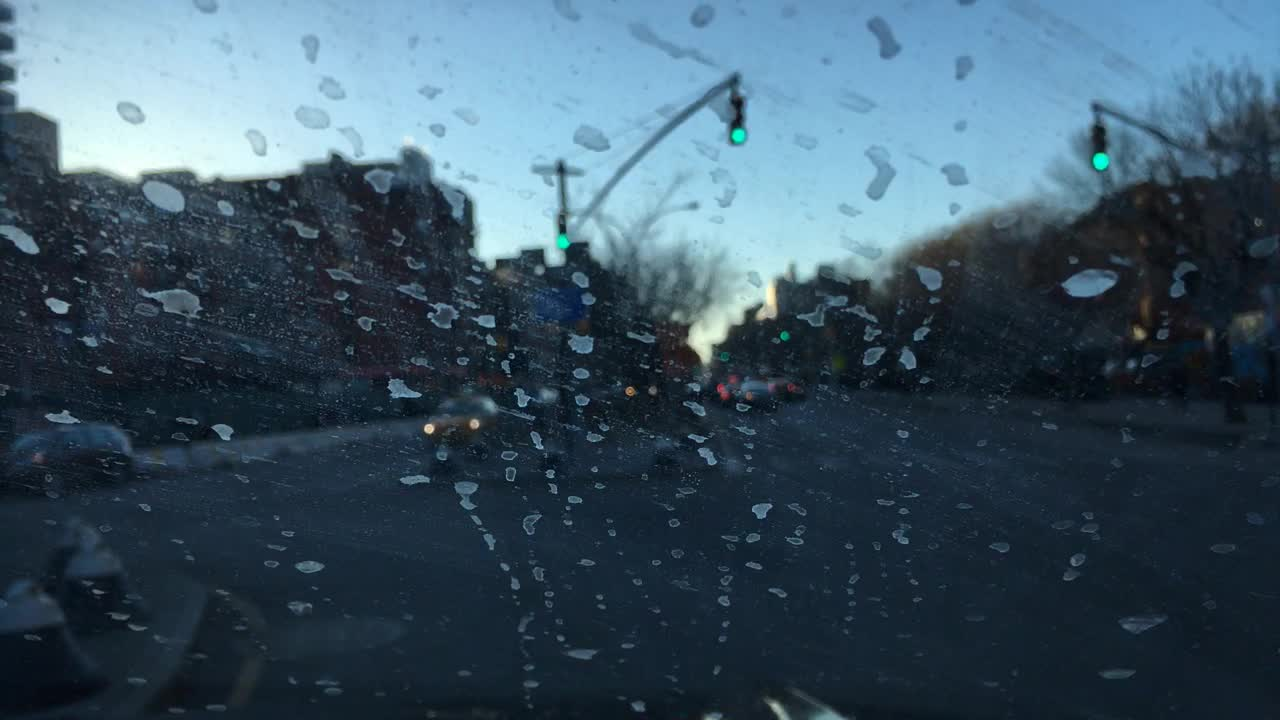car: (0, 421, 134, 494), (418, 391, 498, 449), (709, 372, 741, 403), (741, 376, 773, 406), (776, 373, 812, 398)
traffic light: (725, 91, 749, 147), (1087, 120, 1112, 172), (556, 218, 573, 248)
